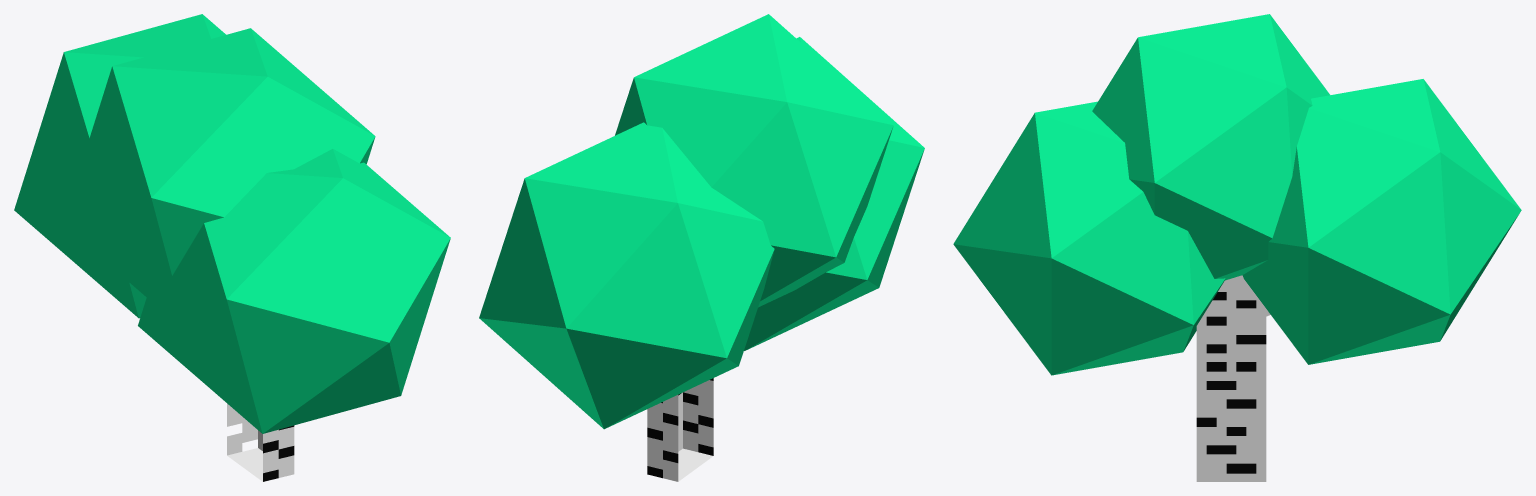
The model's file is wood12.fbx.
The picture shows the model from 3 angles, left to right: view 1: azimuth 30°, elevation 25°; view 2: azimuth 150°, elevation 25°; view 3: azimuth 270°, elevation 25°; orthographic projection. The views are drawn at different scales.
Visible parts, largest first — view 1: wood.011; view 2: wood.011; view 3: wood.011.
Boxes of the visible parts, x1,y1,x2,y2 form: wood.011: (14, 14, 450, 481); wood.011: (479, 14, 924, 481); wood.011: (953, 14, 1521, 481).
Size of the model in its own units: 190 by 276 by 340.
